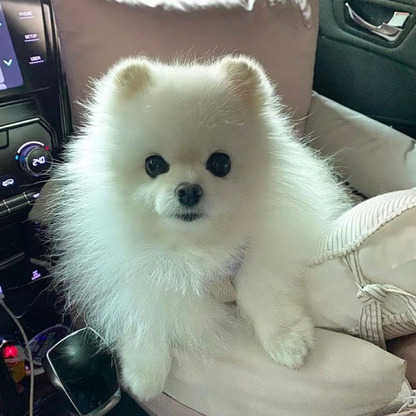Pomeranian: (43, 62, 363, 372)
